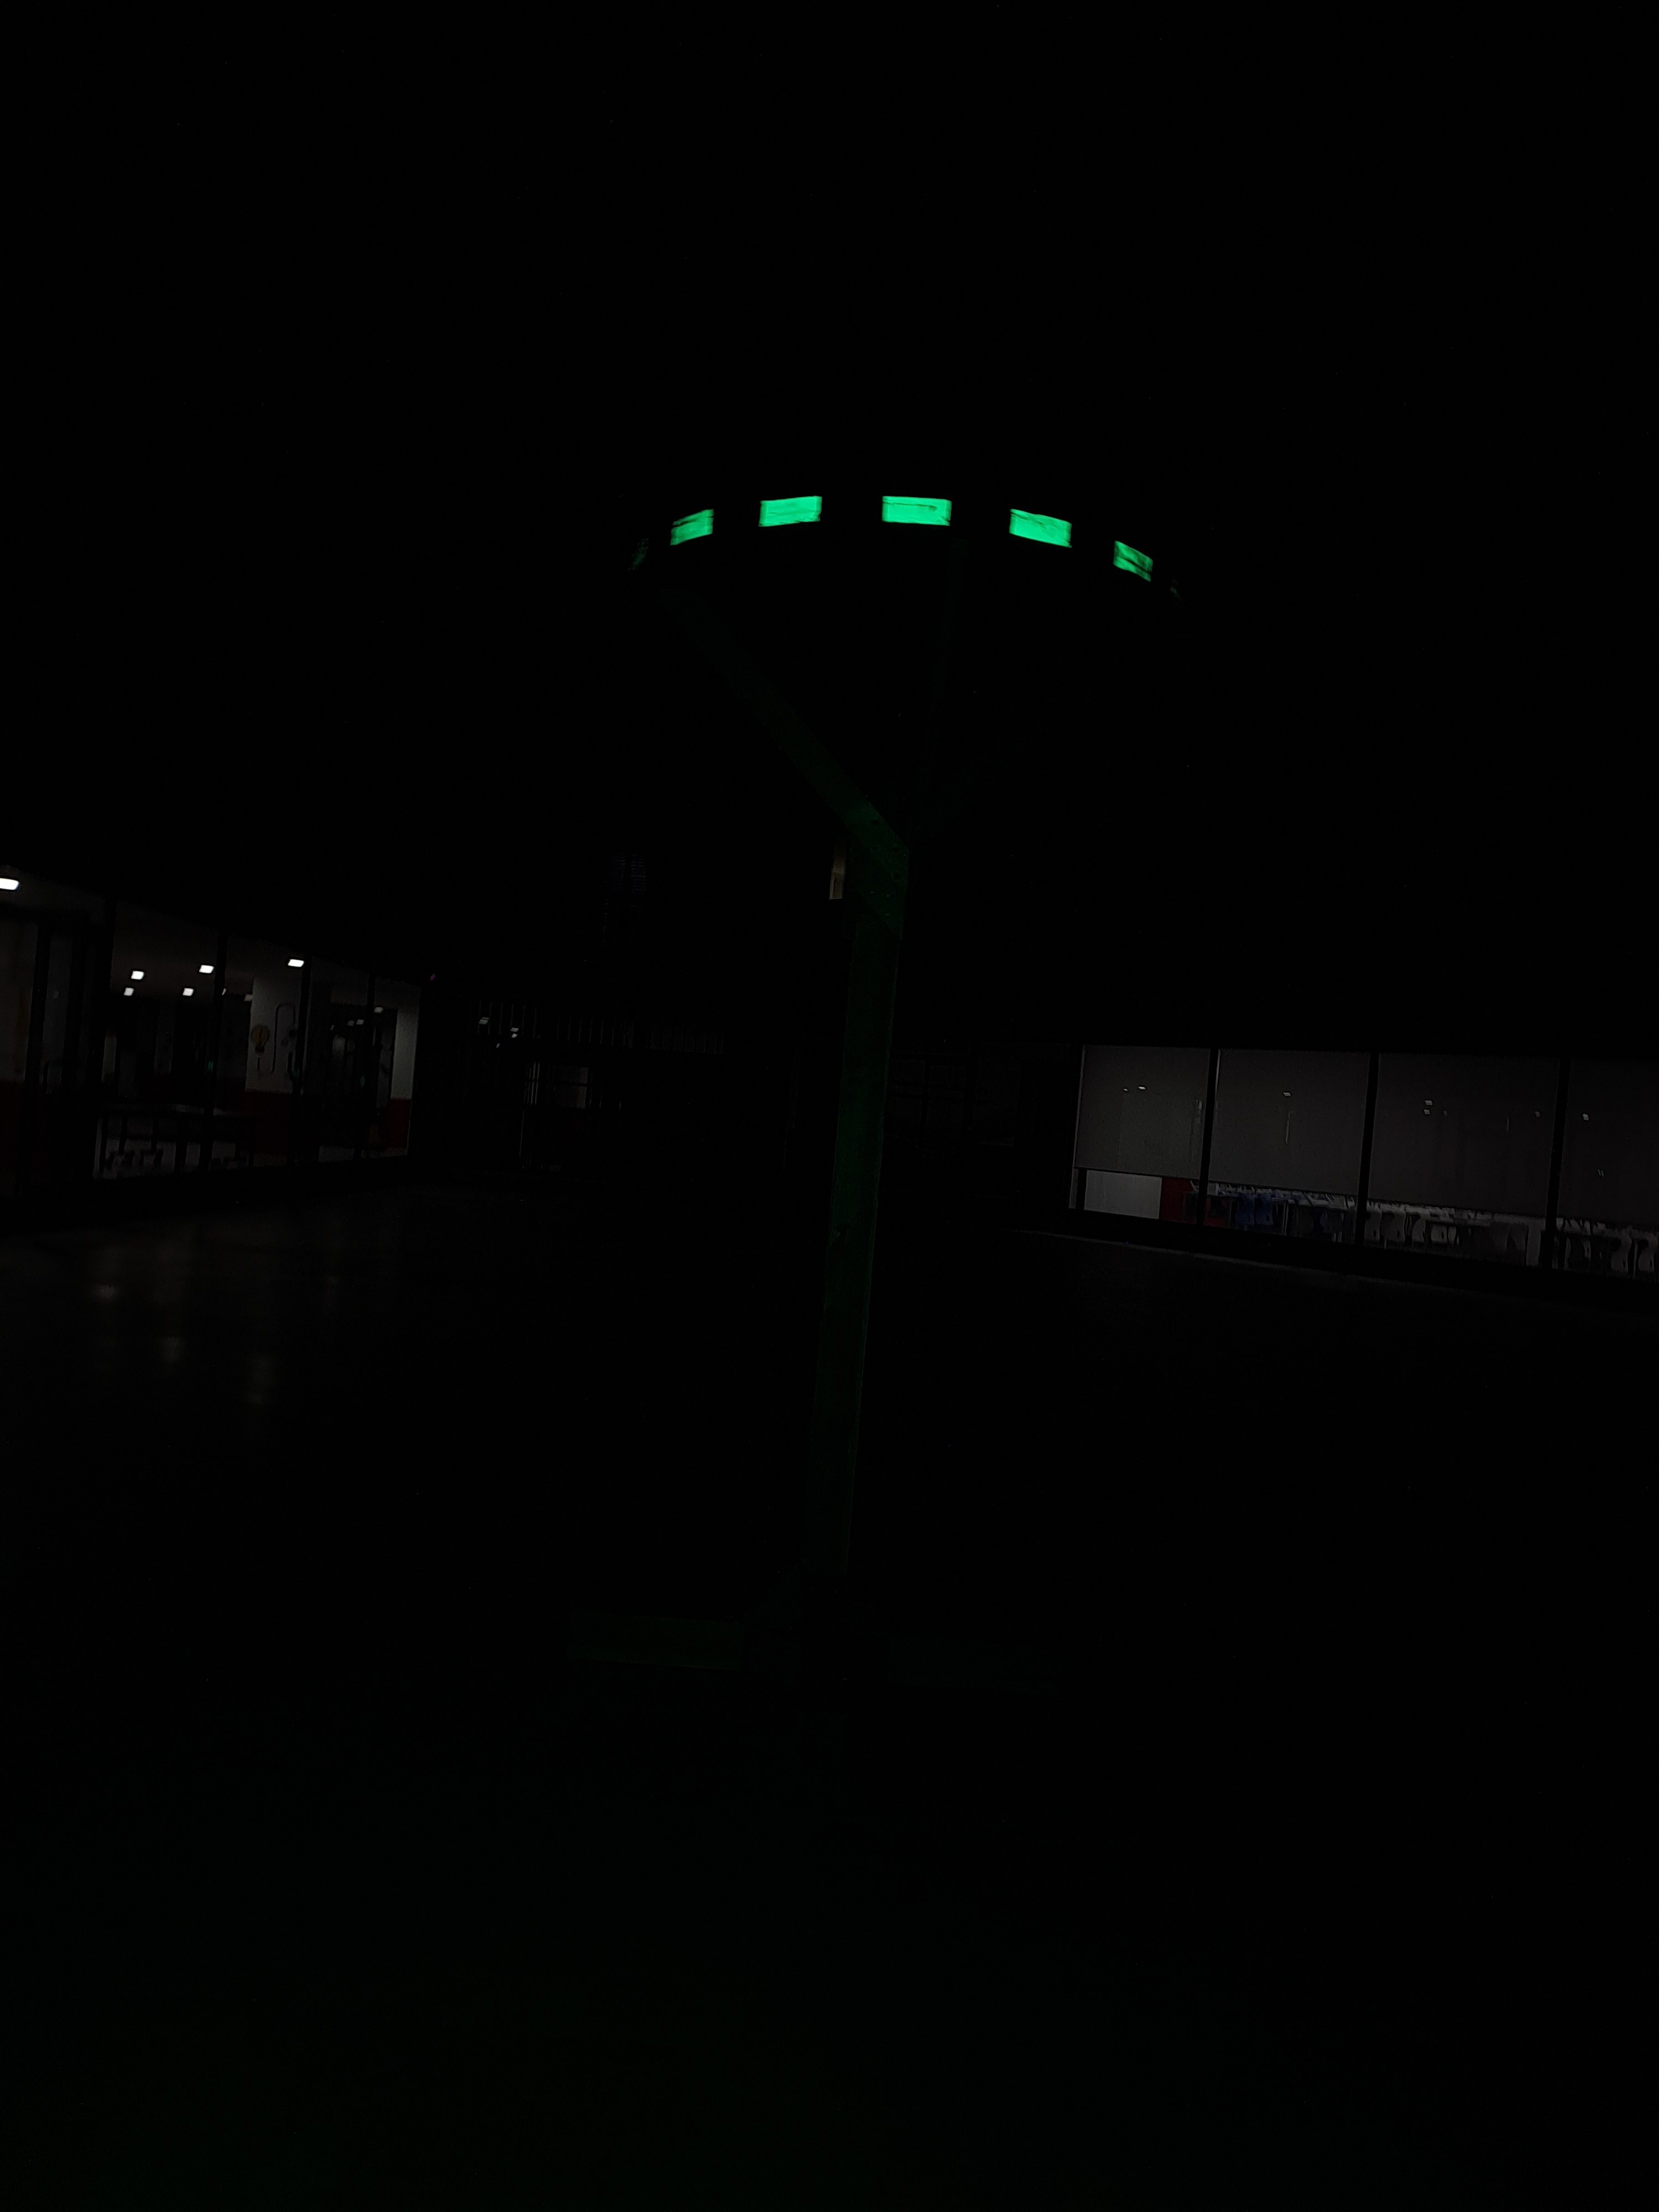hoop: (667, 486, 1157, 592)
